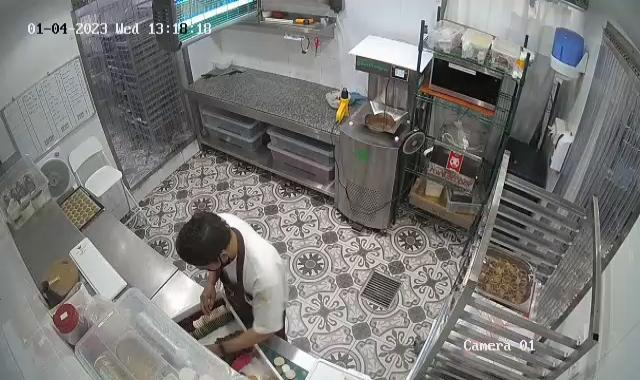no_hairnet: (176, 207, 234, 270)
